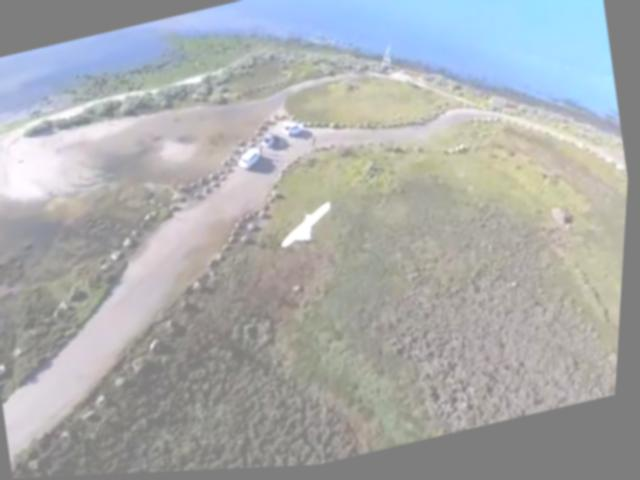uav: (279, 202, 342, 254)
